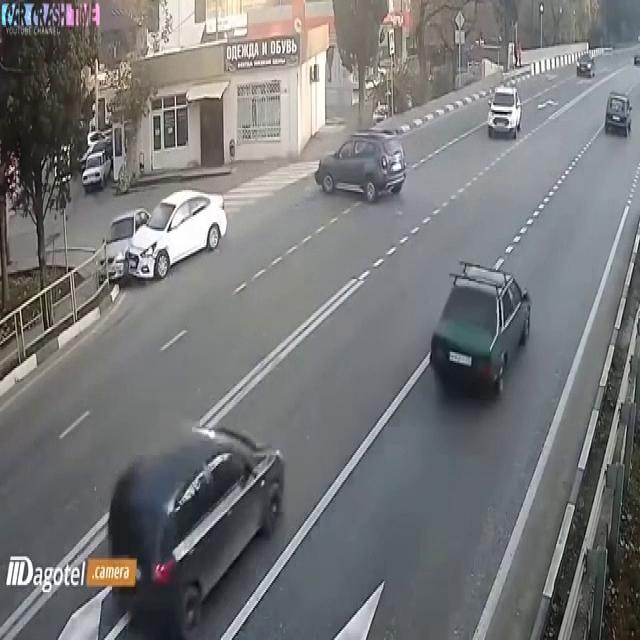accident: (85, 176, 234, 304)
